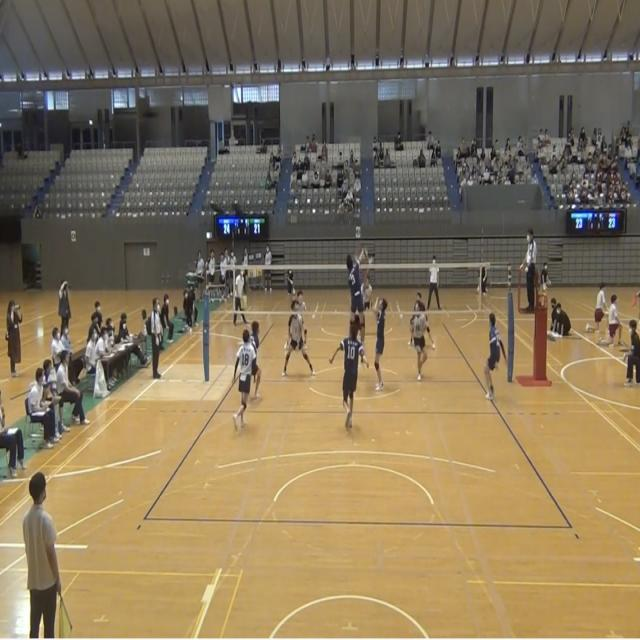spike: (343, 245, 374, 362)
